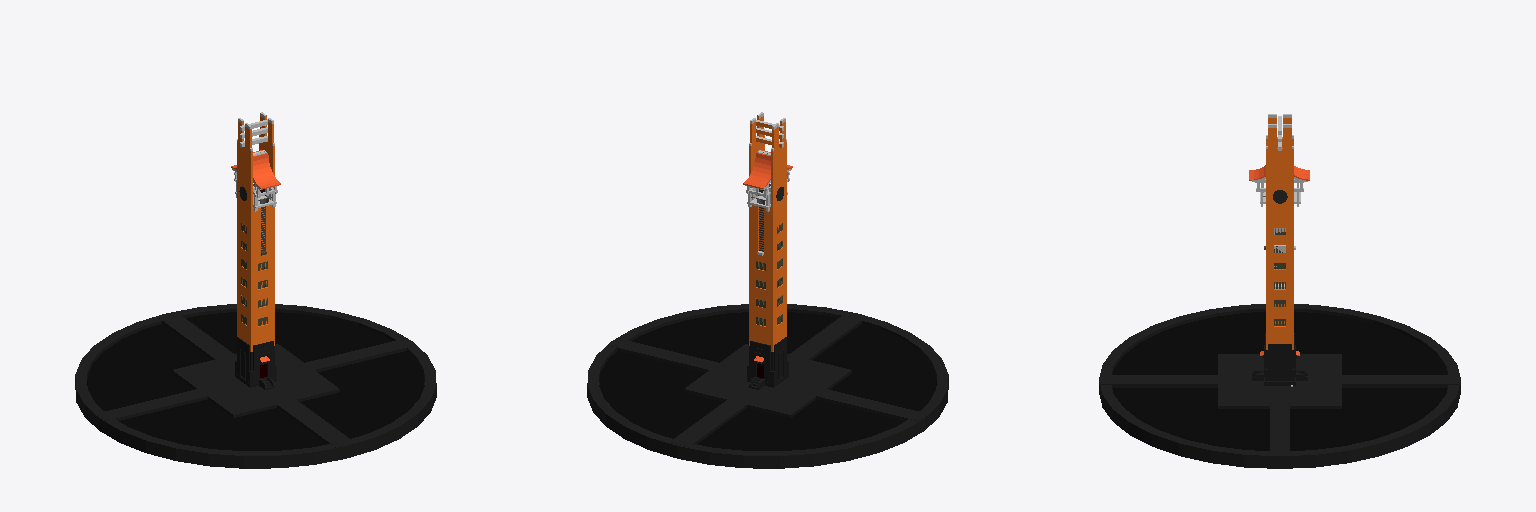
3 renders of one model, left to right at view 1: azimuth 30°, elevation 25°; view 2: azimuth 150°, elevation 25°; view 3: azimuth 270°, elevation 25°, orthographic.
Visible parts, largest first — view 1: 柱体.009, 立方体.008, 柱体.010, Cube.010_Cube.011, Cube.002, 柱体.023_柱体.025; view 2: 柱体.009, 立方体.008, 柱体.010, Cube.010_Cube.011, Cube.002, 柱体.024_柱体.026; view 3: 柱体.009, 柱体.010, 立方体.008, Cube.010_Cube.011, Cube.002.
Part boxes in pixels (left/top/right/bottom): 柱体.009: left=87, top=312, right=424, bottom=450; 立方体.008: left=97, top=312, right=415, bottom=447; 柱体.010: left=75, top=304, right=436, bottom=468; Cube.010_Cube.011: left=237, top=115, right=274, bottom=351; Cube.002: left=235, top=337, right=276, bottom=387; 柱体.023_柱体.025: left=253, top=153, right=280, bottom=189; 柱体.009: left=599, top=312, right=936, bottom=450; 立方体.008: left=608, top=312, right=926, bottom=447; 柱体.010: left=587, top=304, right=948, bottom=468; Cube.010_Cube.011: left=749, top=115, right=786, bottom=351; Cube.002: left=747, top=337, right=788, bottom=387; 柱体.024_柱体.026: left=743, top=153, right=770, bottom=188; 柱体.009: left=1112, top=312, right=1447, bottom=450; 柱体.010: left=1099, top=304, right=1460, bottom=468; 立方体.008: left=1101, top=354, right=1458, bottom=454; Cube.010_Cube.011: left=1266, top=118, right=1293, bottom=349; Cube.002: left=1264, top=333, right=1295, bottom=385.
Bounding box in the file's own units: 103 × 85.35 × 103.
Materials: 13 (4 with a texture image).